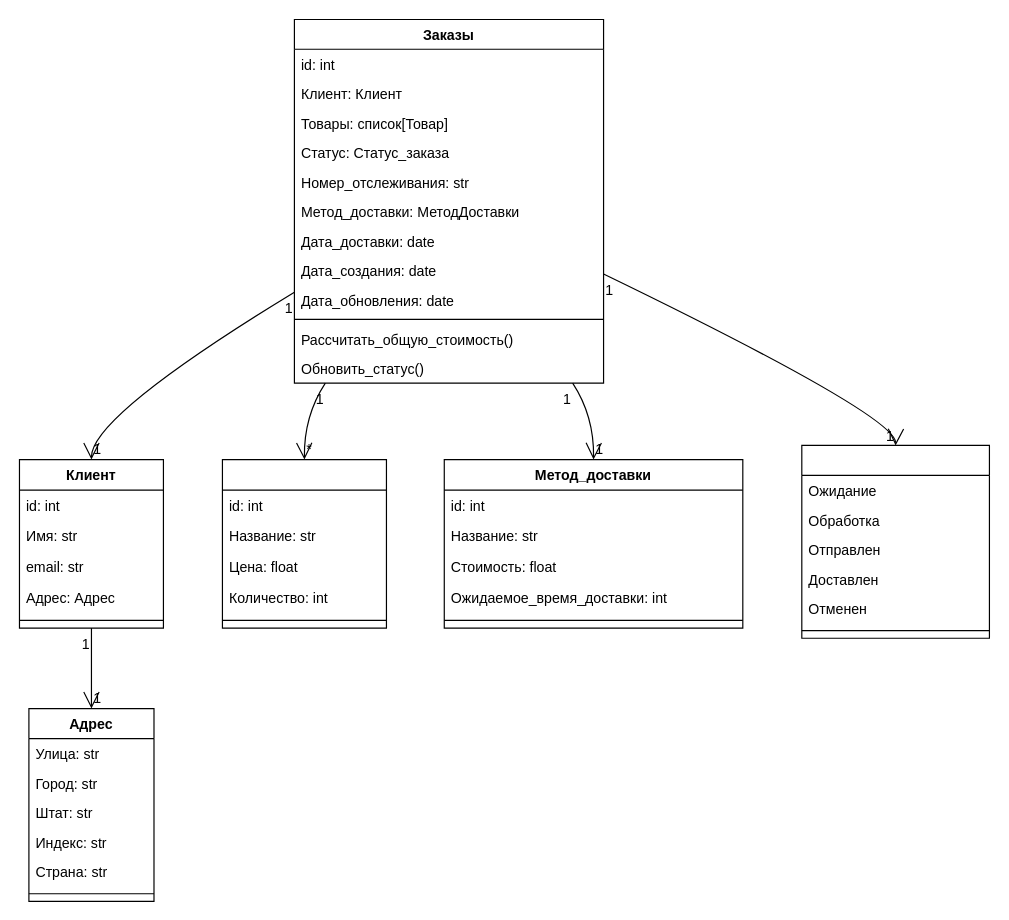
The diagram is 1009 pixels wide and 920 high, and some of its shapes have lost their labels. Here are the shapes that lost their labels. From the top down, the box of each, then its label:
(221, 458, 386, 628): Товар
(801, 444, 989, 638): Статус_заказа
